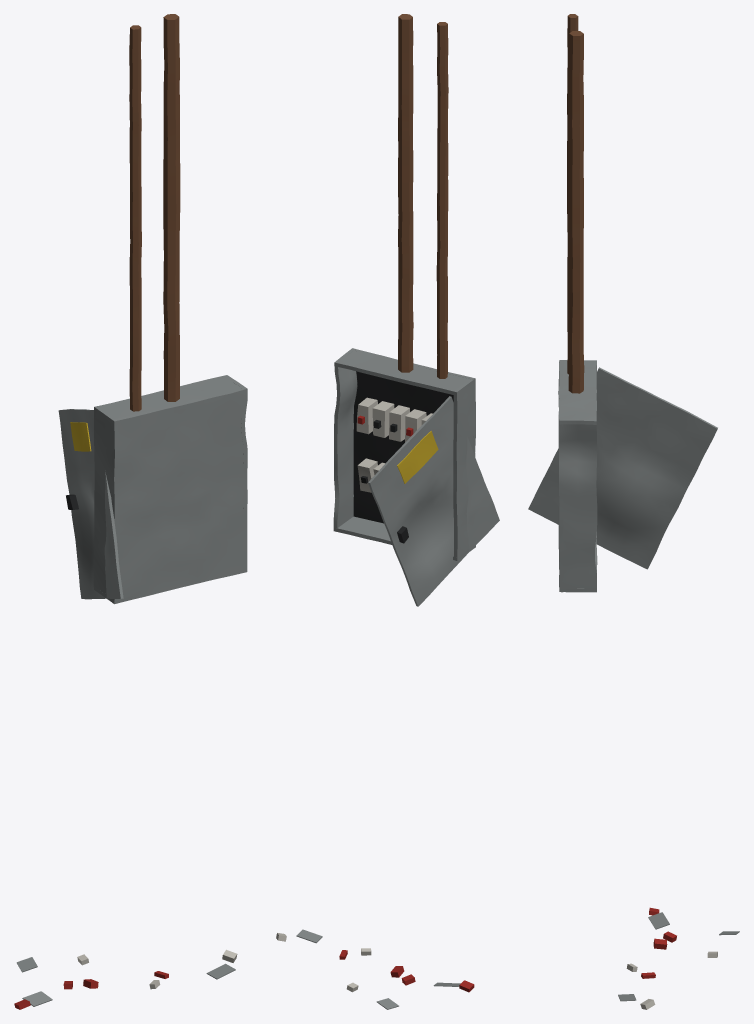
The model's file is elec_panel_broken.fbx.
The picture shows the model from 3 angles, left to right: view 1: azimuth 30°, elevation 25°; view 2: azimuth 150°, elevation 25°; view 3: azimuth 270°, elevation 25°; orthographic projection. The views are drawn at different scales.
Visible parts, largest first — view 1: elec_panel_broken, elec_panel_door, elec_panel_debris; view 2: elec_panel_broken, elec_panel_door, elec_panel_debris; view 3: elec_panel_door, elec_panel_broken, elec_panel_debris.
Part boxes in pixels (bbox=[...]): elec_panel_broken: bbox=[93, 14, 247, 604]; elec_panel_door: bbox=[58, 409, 123, 599]; elec_panel_debris: bbox=[14, 949, 237, 1009]; elec_panel_broken: bbox=[333, 14, 475, 560]; elec_panel_door: bbox=[368, 396, 499, 606]; elec_panel_debris: bbox=[276, 929, 474, 1009]; elec_panel_door: bbox=[528, 367, 717, 569]; elec_panel_broken: bbox=[558, 14, 597, 592]; elec_panel_debris: bbox=[618, 907, 739, 1009].
Size of the model in its own units: 68.14 by 300 by 61.87.
